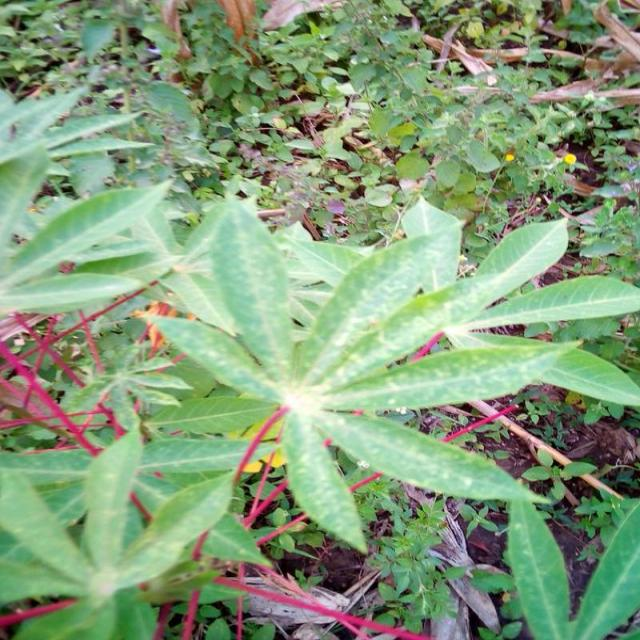cassava leaf: (144, 190, 638, 553)
